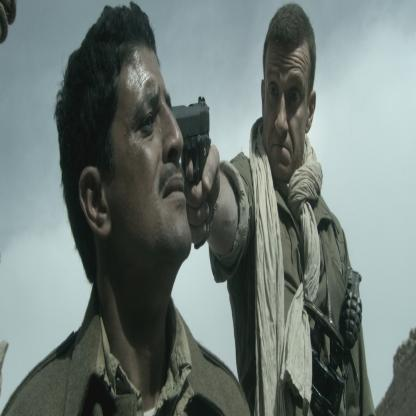gun: (175, 74, 222, 212)
